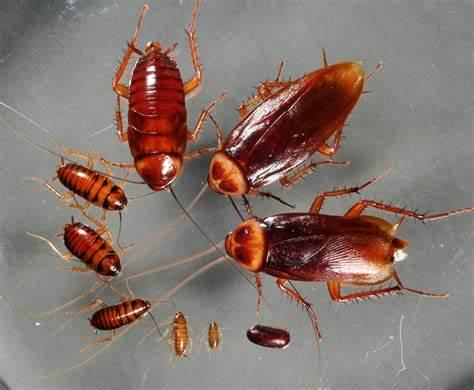cockroach: (221, 188, 415, 310), (204, 57, 368, 201), (112, 34, 202, 195), (53, 156, 128, 216), (58, 220, 123, 278), (83, 298, 153, 336), (170, 308, 192, 361), (202, 320, 223, 355)
